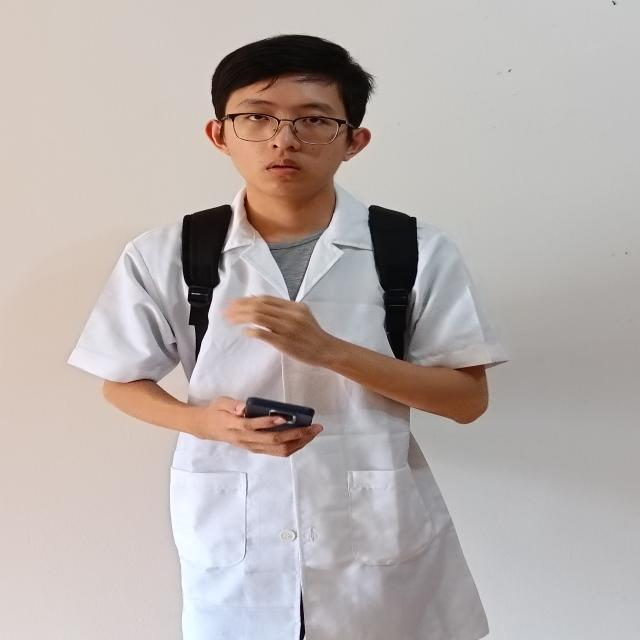person_with_labcoat: (69, 35, 505, 640)
